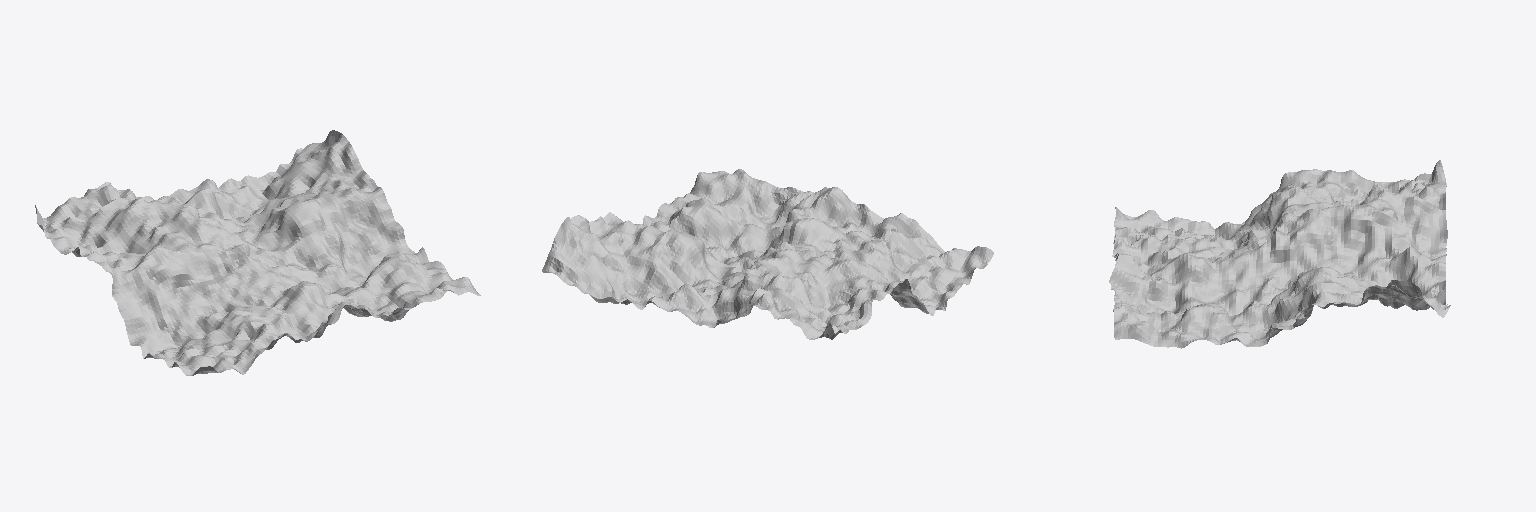
File: terrain.obj
3 views of the same model, side by side, from view 1: azimuth 30°, elevation 25°; view 2: azimuth 150°, elevation 25°; view 3: azimuth 270°, elevation 25° (orthographic).
Visible parts, largest first — view 1: default; view 2: default; view 3: default.
Part boxes in pixels (bbox=[...]): default: bbox=[35, 130, 480, 375]; default: bbox=[542, 169, 993, 339]; default: bbox=[1109, 160, 1450, 348].
Bounding box in the file's own units: 1.02 × 0.3068 × 1.03.